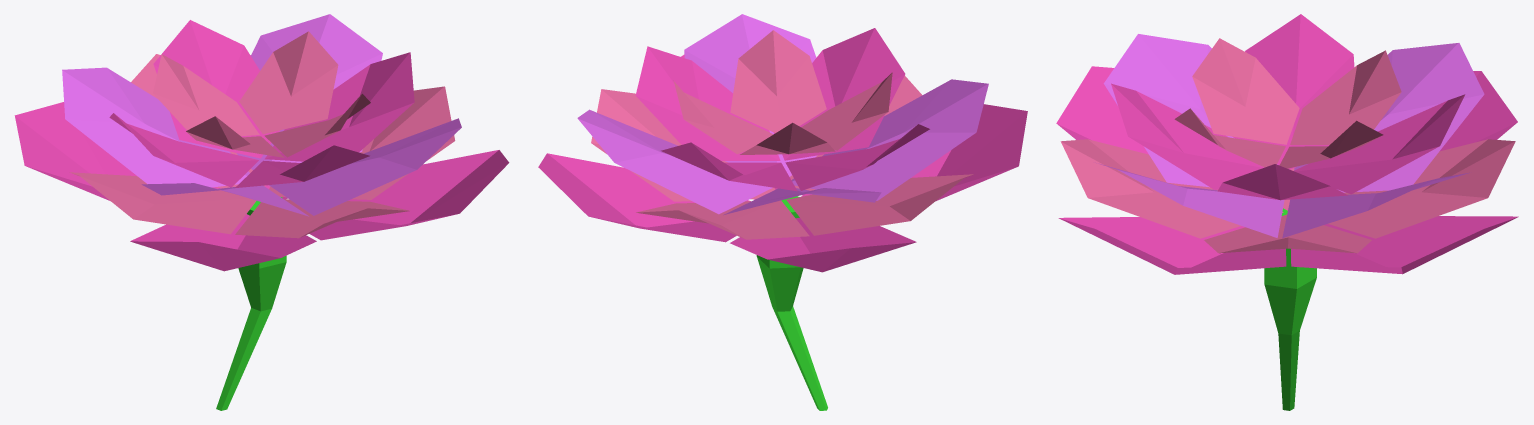
File: flower4.glb
3 views of the same model, side by side, from view 1: azimuth 30°, elevation 25°; view 2: azimuth 150°, elevation 25°; view 3: azimuth 270°, elevation 25° (orthographic). The views are drawn at different scales.
Parts seen in each view (by area): view 1: Plane.003; view 2: Plane.003; view 3: Plane.003.
Part boxes in pixels (box(x1,y1,x2,y2)): Plane.003: box(14, 14, 509, 410); Plane.003: box(538, 14, 1027, 410); Plane.003: box(1056, 14, 1518, 410).
Size of the model in its own units: 7.78 by 6.48 by 7.78.
